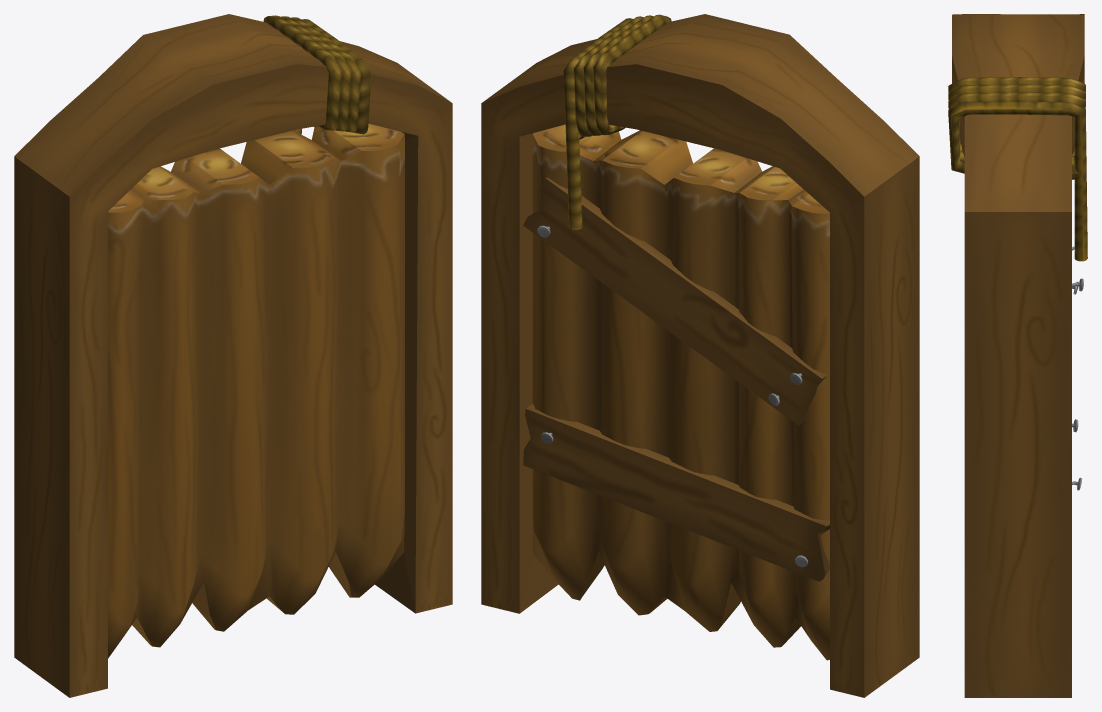
File: Gate_Main_Closed.fbx
The picture shows the model from 3 angles, left to right: view 1: azimuth 30°, elevation 25°; view 2: azimuth 150°, elevation 25°; view 3: azimuth 270°, elevation 25°; orthographic projection. The views are drawn at different scales.
Parts seen in each view (by area): view 1: polySurface6; view 2: polySurface6; view 3: polySurface6.
Boxes of the visible parts, left/top/right/bottom form: polySurface6: left=14, top=14, right=452, bottom=697; polySurface6: left=481, top=14, right=919, bottom=697; polySurface6: left=948, top=14, right=1087, bottom=697.
Size of the model in its own units: 400 by 583 by 130.
